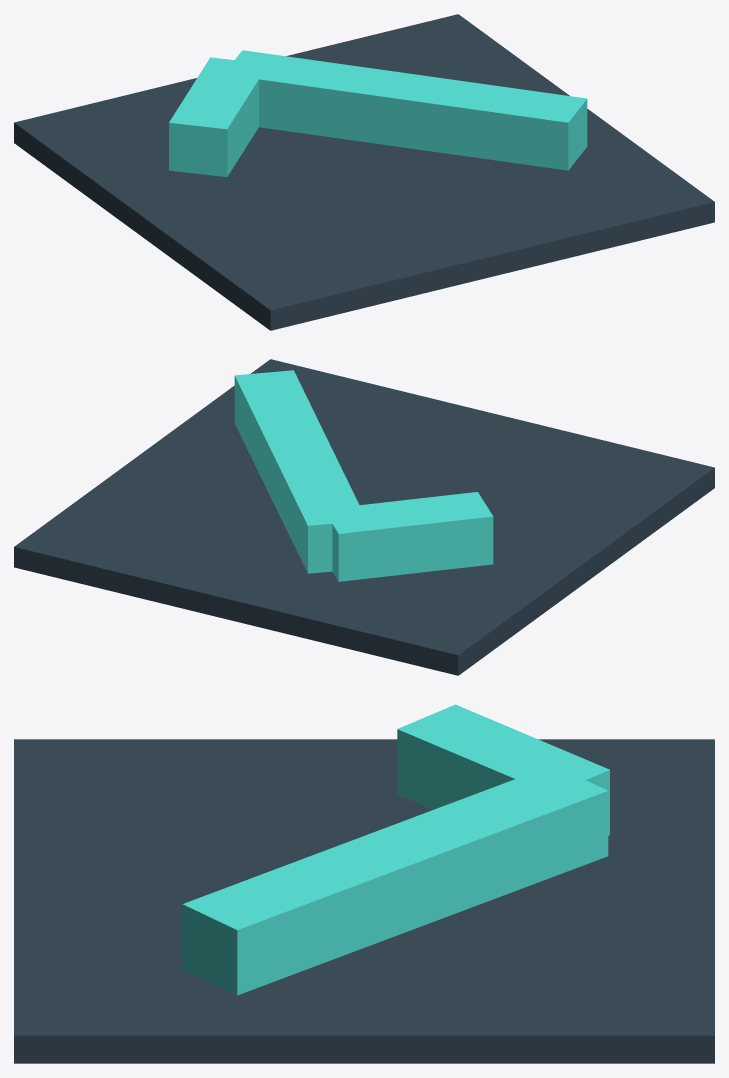
The model's file is ar_test_anchor_marker.gltf.
The picture shows the model from 3 angles, top to bottom: view 1: azimuth 30°, elevation 25°; view 2: azimuth 150°, elevation 25°; view 3: azimuth 270°, elevation 25°; orthographic projection. The views are drawn at different scales.
Visible parts, largest first — view 1: test-anchor-check-marker; view 2: test-anchor-check-marker; view 3: test-anchor-check-marker.
Boxes of the visible parts, x1,y1,x2,y2 form: test-anchor-check-marker: (14, 14, 714, 330); test-anchor-check-marker: (14, 359, 714, 675); test-anchor-check-marker: (14, 704, 714, 1063).
Size of the model in its own units: 68 by 11 by 68.
